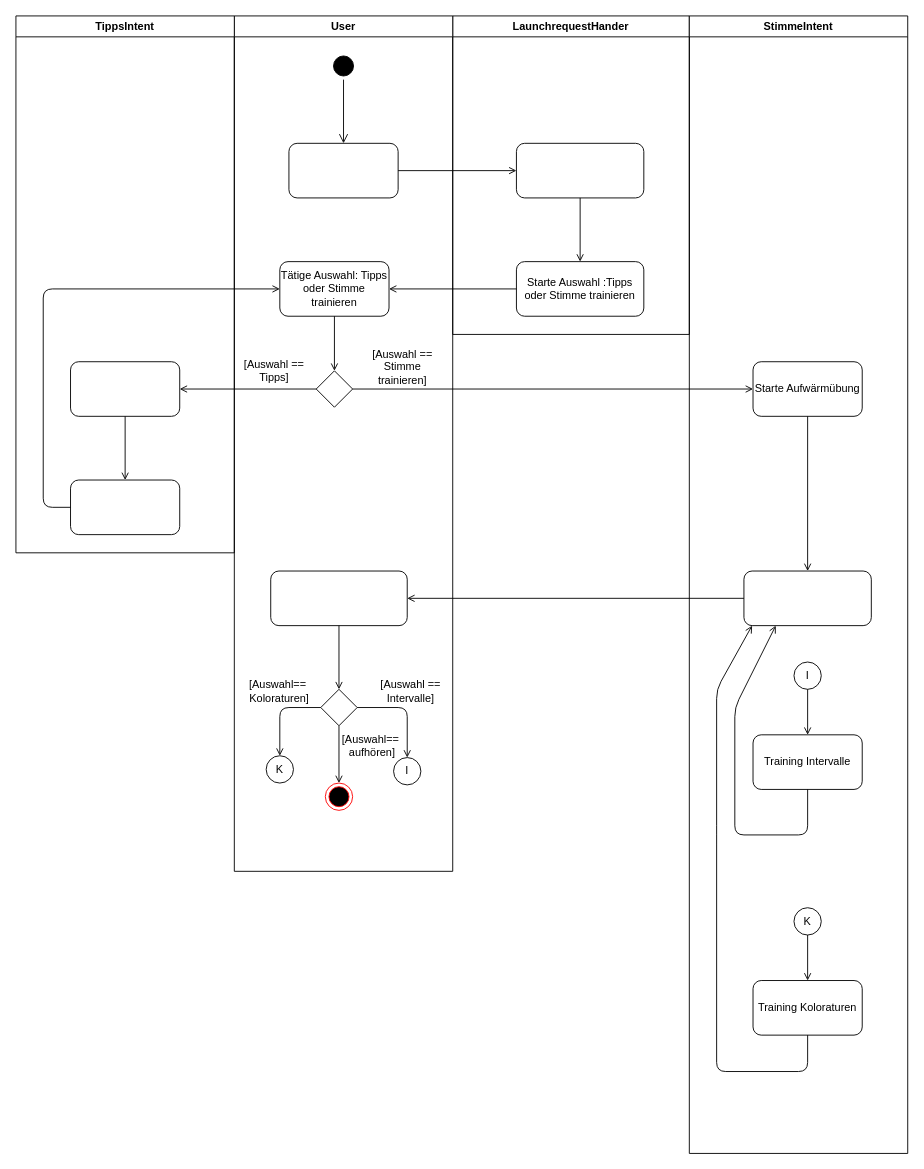
The diagram is 924 pixels wide and 1169 high, and some of its shapes have lost their labels. Here are the shapes that lost their labels. From the top down, the centre of each, then its label:
At [343,170]: "Starte Skill".
At [580,170]: "Gebe Willkommensnachricht wieder".
At [125,388]: "Gebe Tipps".
At [125,507]: "Starte Auswahl weiterer Tipp oder Stimme trainieren".
At [338,598]: "Tätige Auswahl: Intervalle oder Koloraturen trainieren oder aufhören".
At [807,598]: "Starte Auswahl: Intervalle oder Koloraturen trainieren oder aufhören".
